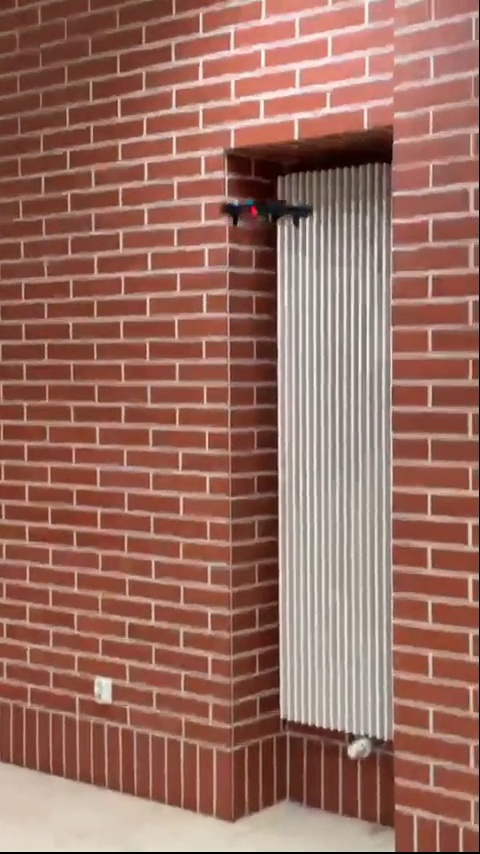drone: (213, 193, 320, 231)
